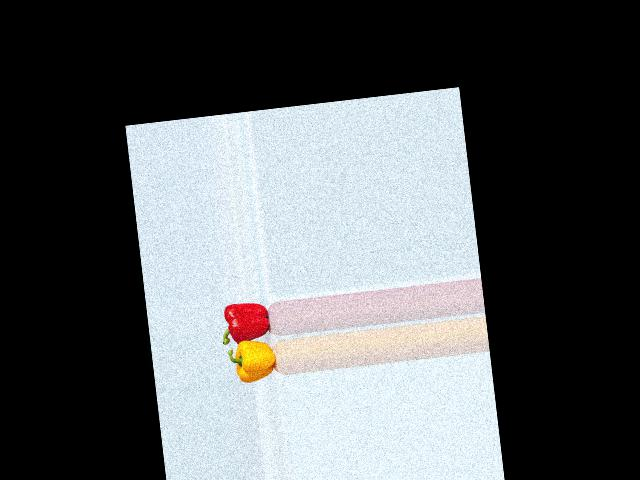bell_pepper: (219, 295, 276, 346)
